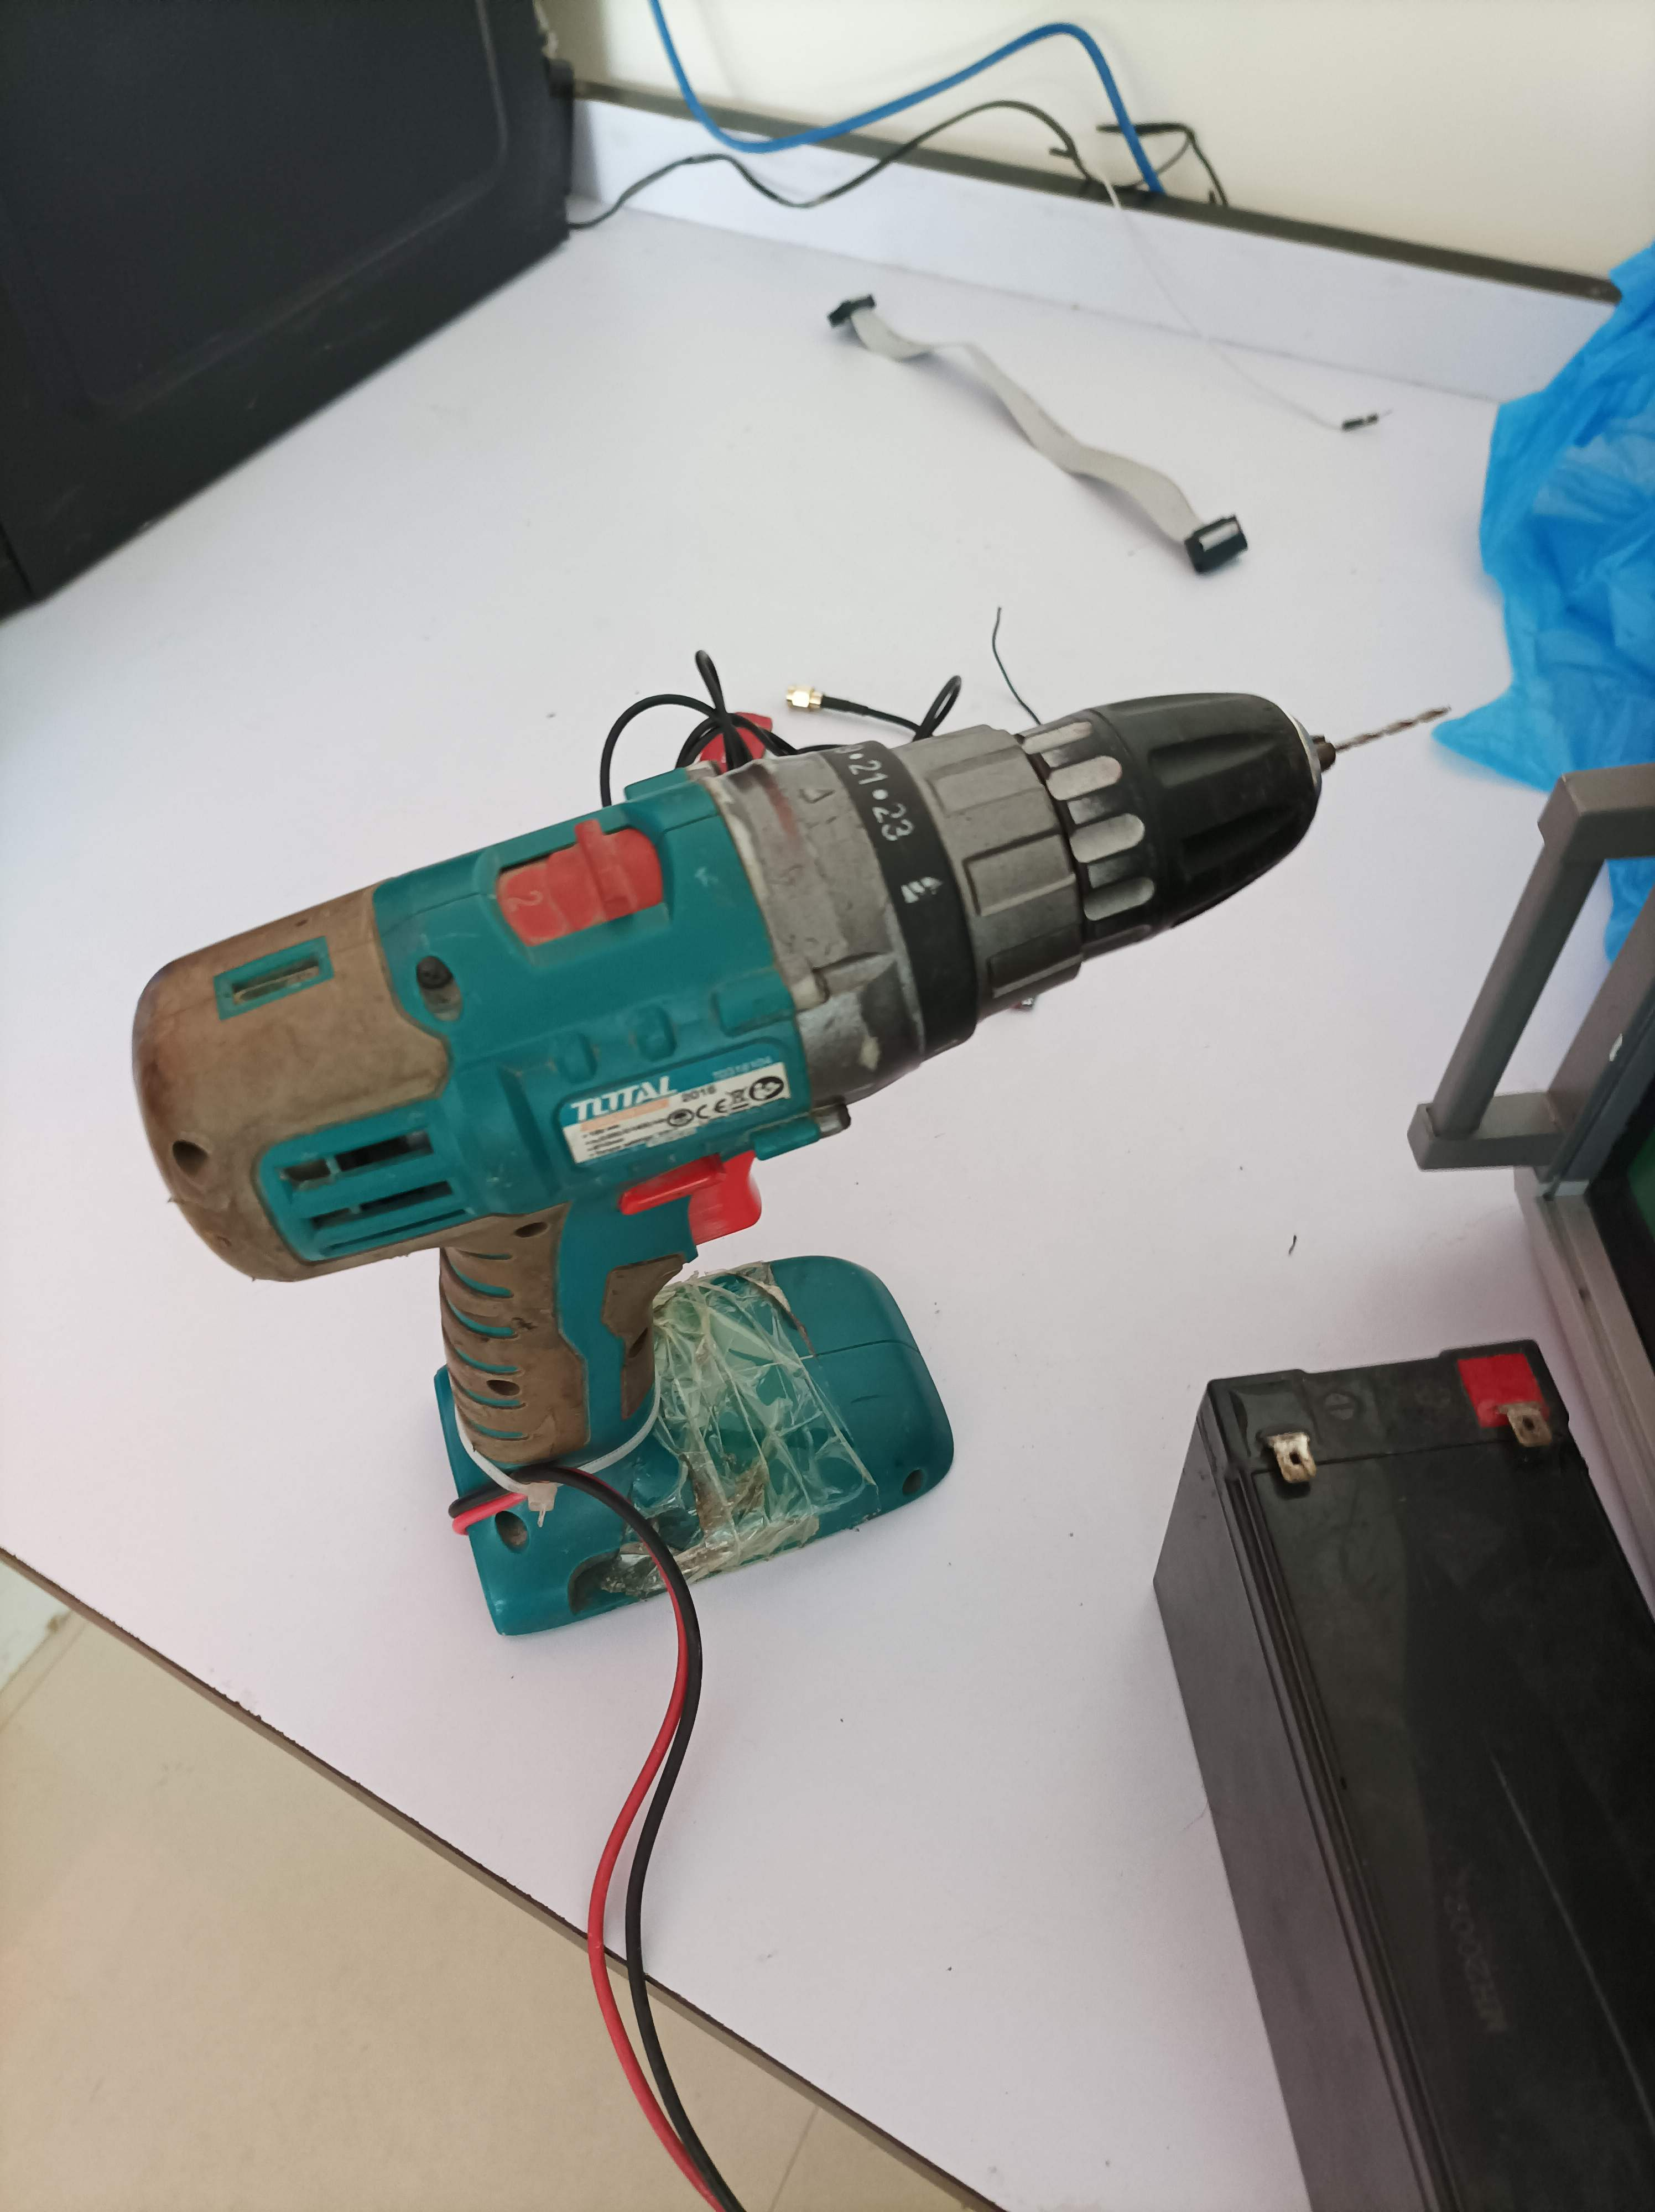driller: (120, 681, 1457, 1670)
